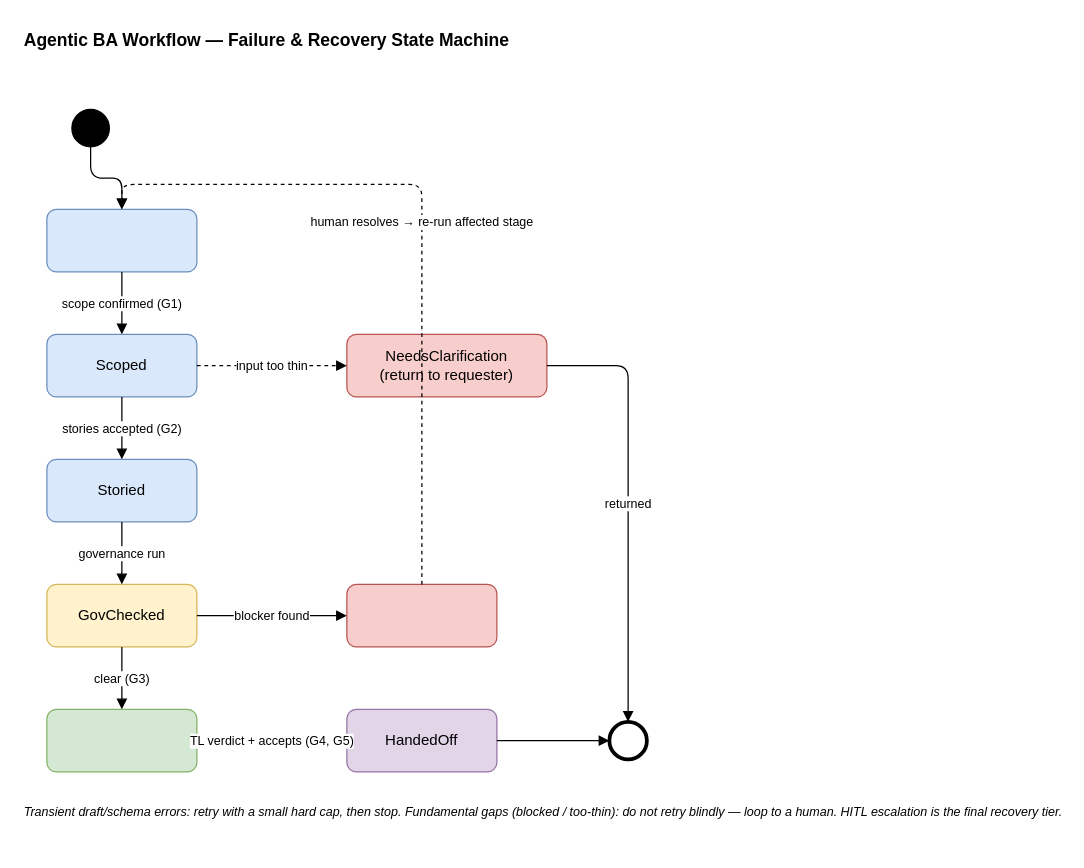
Image size: 1084x868. Some labels were removed from this diagram. The shapes that lost their labels are listed below. From the top down, each one's centre as x and y in pixels, then its label:
At pixel 121 240: "Intake".
At pixel 421 615: "Blocked".
At pixel 121 740: "Feasible".
